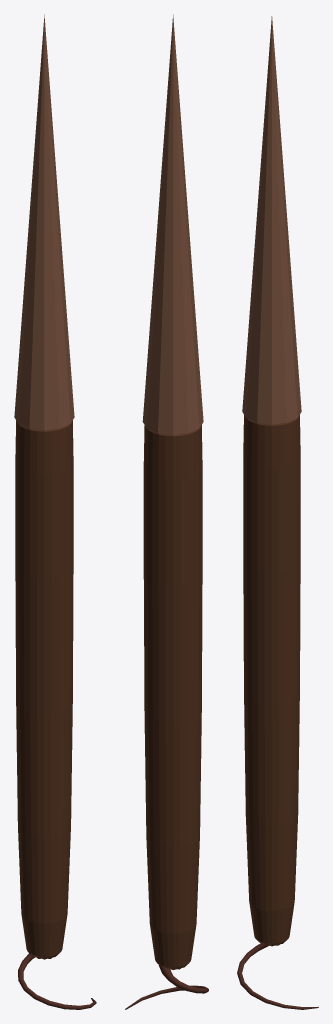
The model's file is Wand 29.glb.
3 renders of one model, left to right at view 1: azimuth 30°, elevation 25°; view 2: azimuth 150°, elevation 25°; view 3: azimuth 330°, elevation 25°, orthographic. The views are drawn at different scales.
Parts seen in each view (by area): view 1: GeneratedWand; view 2: GeneratedWand; view 3: GeneratedWand.
Boxes of the visible parts, bbox=[...] form: GeneratedWand: bbox=[14, 14, 96, 1009]; GeneratedWand: bbox=[125, 14, 208, 1009]; GeneratedWand: bbox=[237, 16, 318, 1009].
Bounding box in the file's own units: 0.0402 × 0.5149 × 0.0343.
